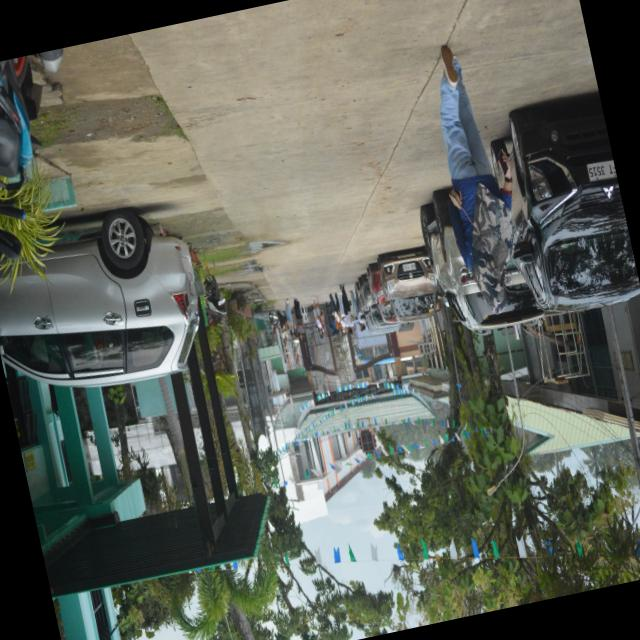person: (439, 46, 512, 312), (339, 284, 353, 333), (329, 292, 343, 335), (311, 295, 323, 336), (293, 298, 304, 338), (285, 298, 295, 338)
